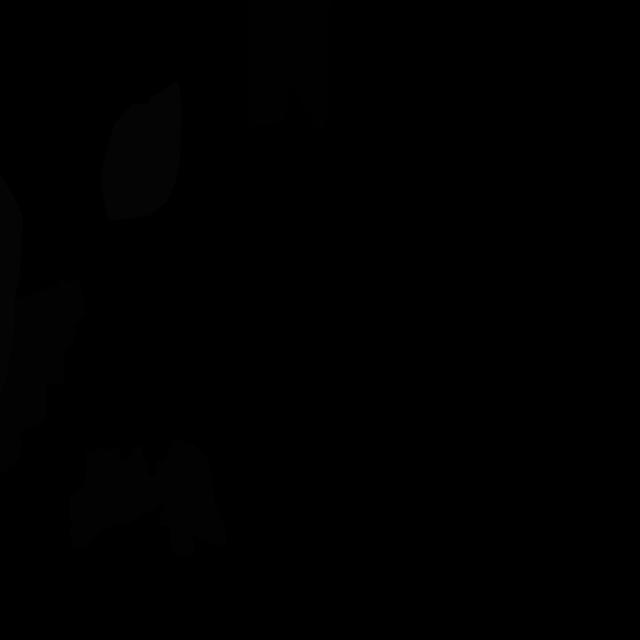cardboard: (69, 439, 227, 556), (0, 278, 85, 476)
rigid_plastic: (248, 0, 331, 131)
soft_plastic: (100, 81, 182, 221), (0, 175, 23, 397)
